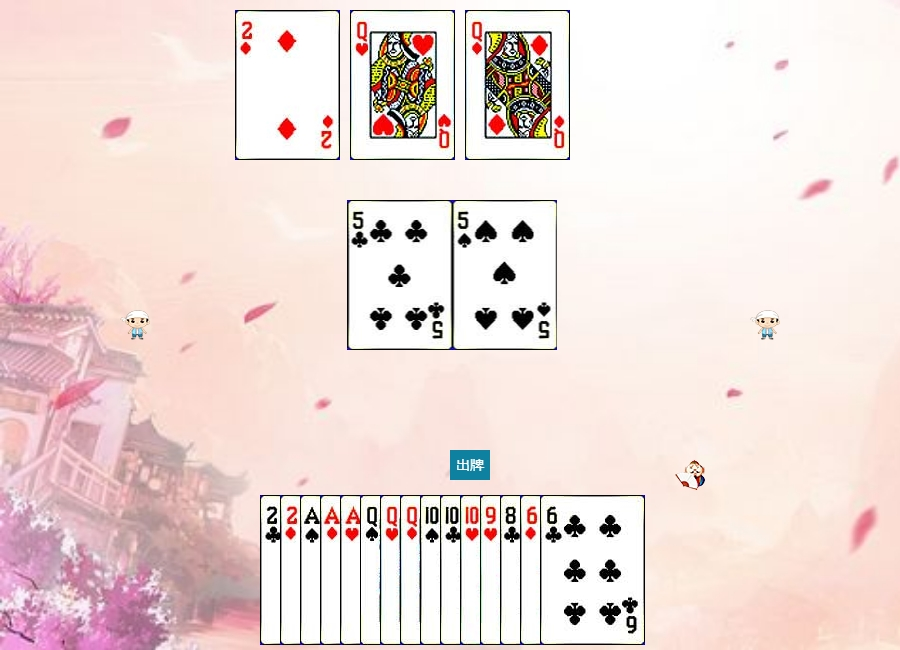10~2: (440, 495, 545, 645)
10~3: (460, 495, 565, 645)
10~4: (420, 495, 525, 645)
12~1: (465, 10, 570, 160), (400, 495, 505, 645)
12~3: (350, 10, 455, 160), (380, 495, 485, 645)
12~4: (360, 495, 465, 645)
14~1: (320, 495, 425, 645)
14~3: (340, 495, 445, 645)
14~4: (300, 495, 405, 645)
15~1: (235, 10, 340, 160), (280, 495, 385, 645)
15~2: (260, 495, 365, 645)
5~2: (348, 200, 453, 350)
5~4: (453, 200, 558, 350)
6~1: (520, 495, 625, 645)
6~2: (540, 495, 645, 645)
8~2: (500, 495, 605, 645)
9~3: (480, 495, 585, 645)
